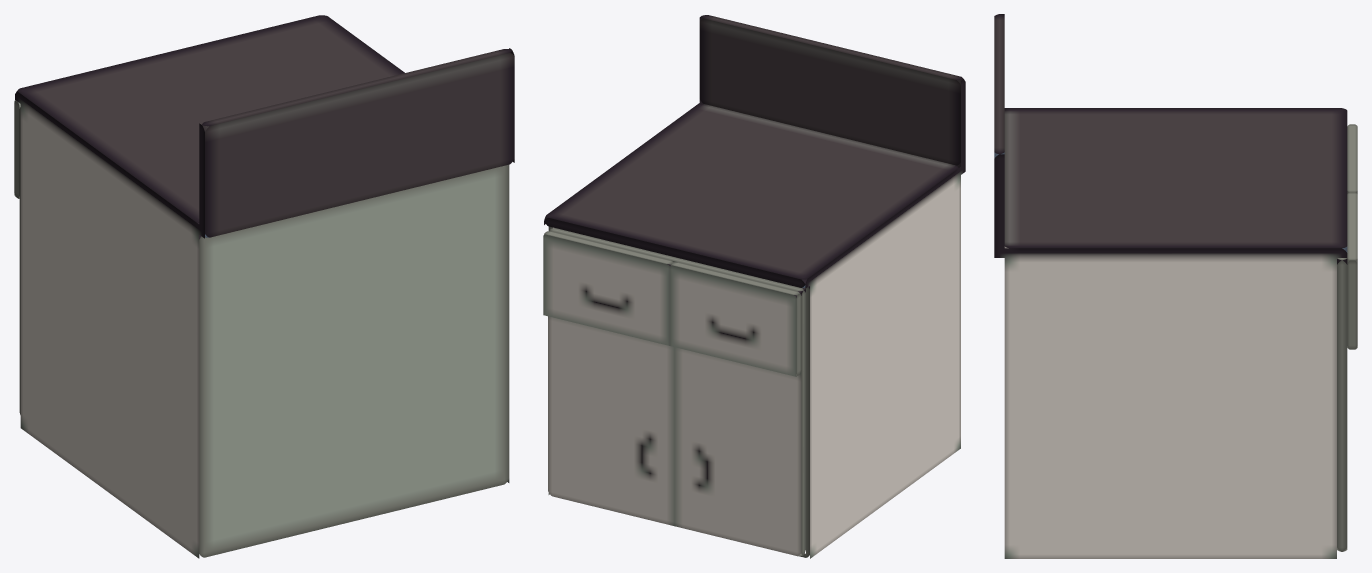
File: countertopA.fbx
The picture shows the model from 3 angles, left to right: view 1: azimuth 30°, elevation 25°; view 2: azimuth 150°, elevation 25°; view 3: azimuth 270°, elevation 25°; orthographic projection. The views are drawn at different scales.
Parts seen in each view (by area): view 1: countertopA; view 2: countertopA; view 3: countertopA.
Boxes of the visible parts, box(x1,y1,x2,y2) form: countertopA: box(14, 15, 514, 558); countertopA: box(543, 15, 965, 558); countertopA: box(994, 14, 1357, 558).
Bounding box in the file's own units: 200 × 269 × 219.
